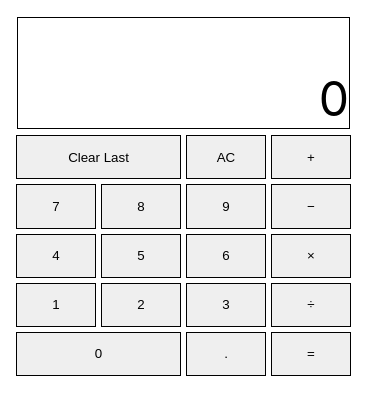
it: check that 2 + 3 === 5
Click the button titled "2". click: (141, 305)
box: [101,283,181,327]
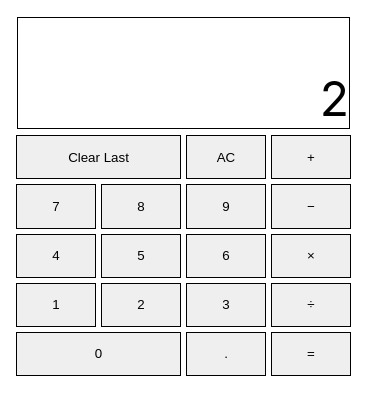
Click the button "+". click: (311, 157)
box: [271,135,351,179]
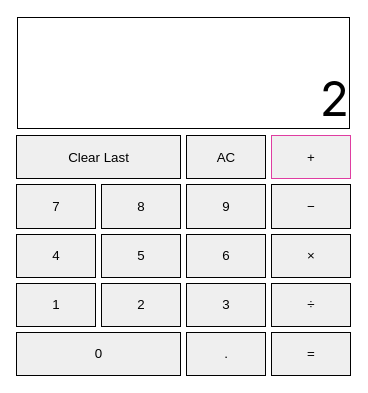
Click the button titled "3". click: (226, 305)
box: [186,283,266,327]
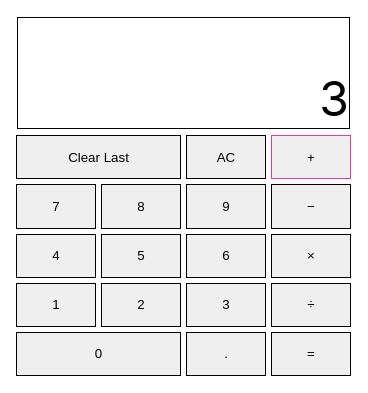
Click the button "=". click: (311, 354)
box: [271,332,351,376]
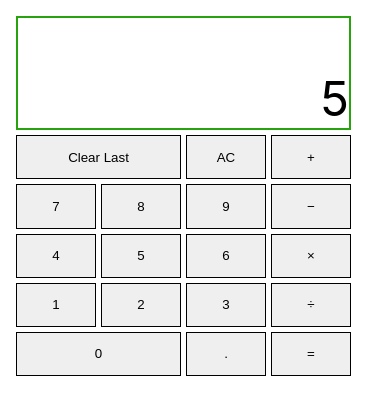
Result: the text titled "answer" reads "5" at [320,69,349,128]
